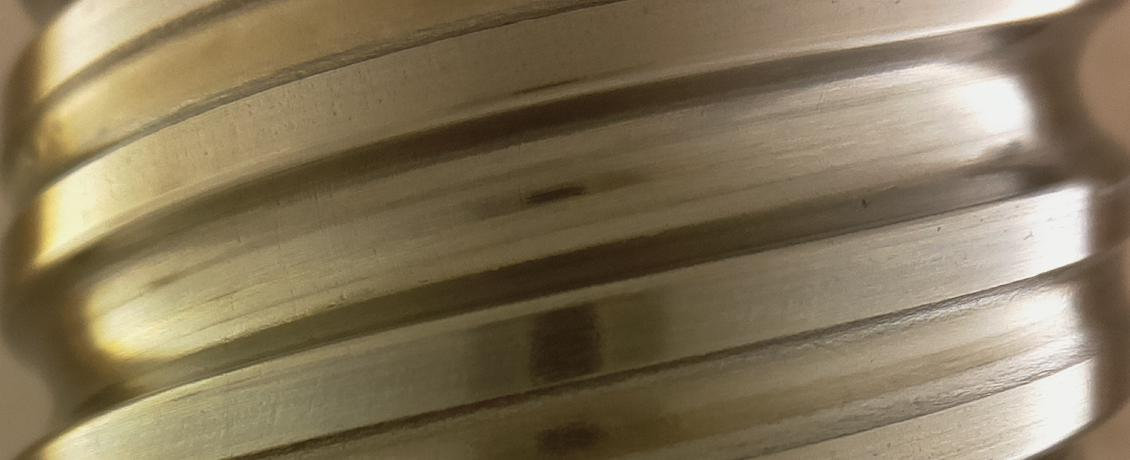pitting: (862, 199, 866, 206)
